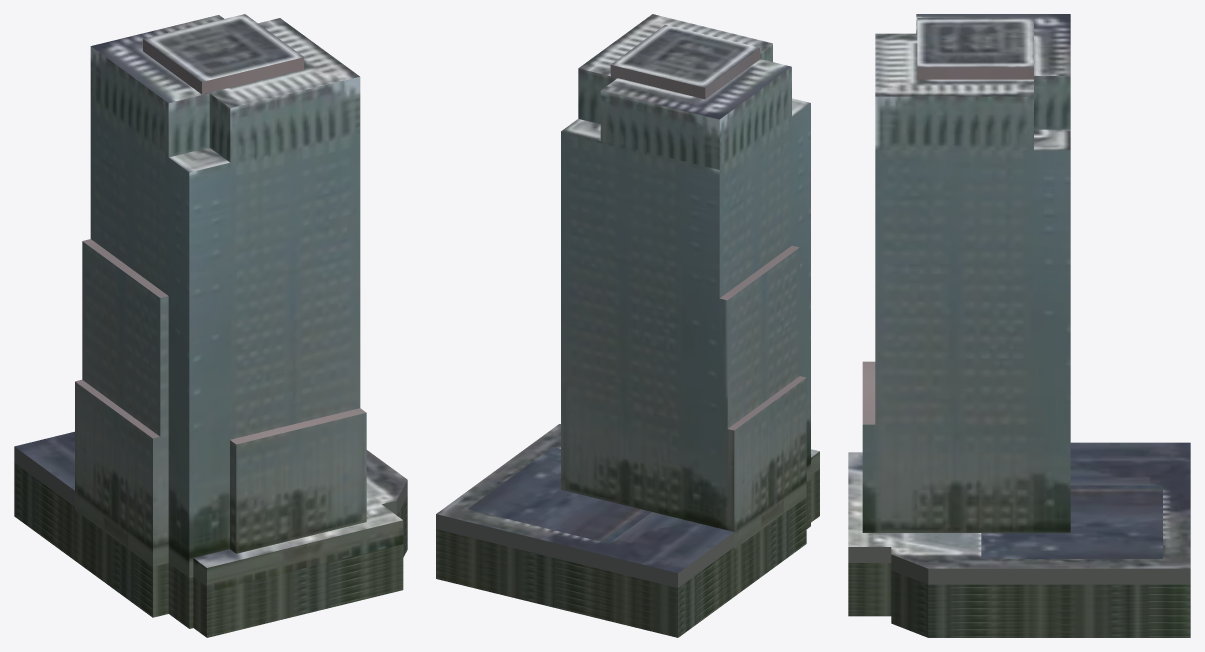
Rendered from central_business_building_99eb7f85.glb.
The picture shows the model from 3 angles, left to right: view 1: azimuth 30°, elevation 25°; view 2: azimuth 150°, elevation 25°; view 3: azimuth 270°, elevation 25°; orthographic projection. The views are drawn at different scales.
Parts seen in each view (by area): view 1: central_business_building_99eb7f85; view 2: central_business_building_99eb7f85; view 3: central_business_building_99eb7f85.
Boxes of the visible parts, box(x1,y1,x2,y2) form: central_business_building_99eb7f85: box(14, 14, 407, 637); central_business_building_99eb7f85: box(436, 14, 819, 637); central_business_building_99eb7f85: box(848, 14, 1190, 637).
Bounding box in the file's own units: 56.47 × 108 × 64.76.
1 material, 1 textured.
